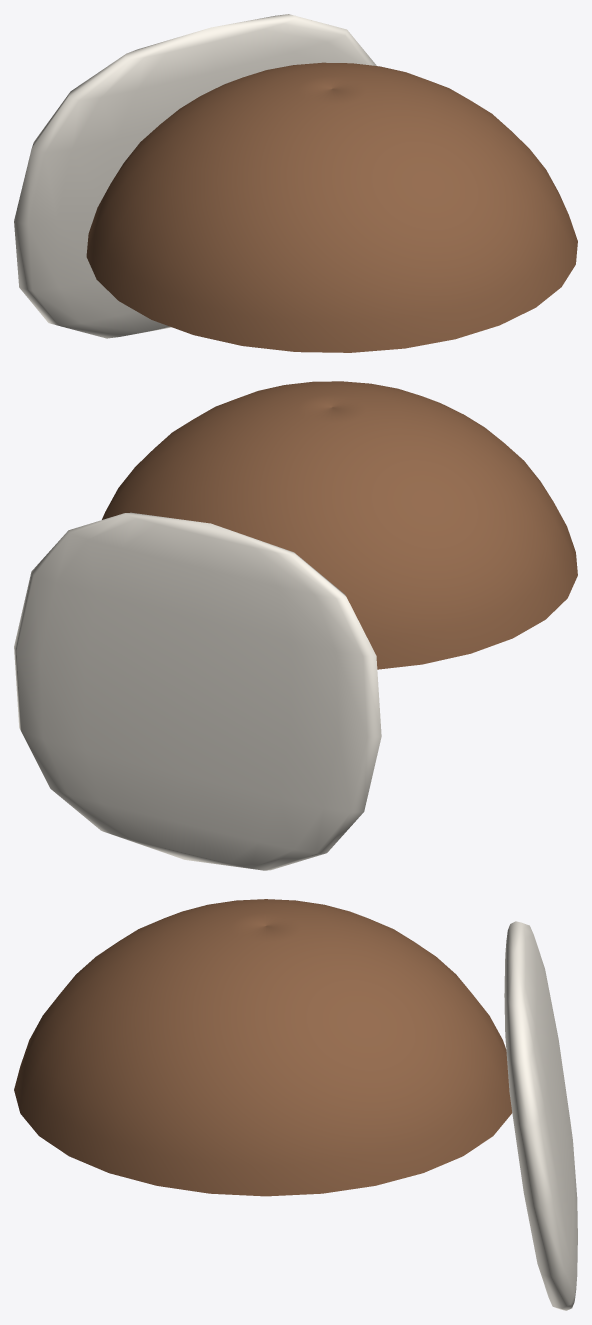
The model's file is bridal_veil.glb.
3 views of the same model, one above another, from view 1: azimuth 30°, elevation 25°; view 2: azimuth 150°, elevation 25°; view 3: azimuth 270°, elevation 25° (orthographic). The views are drawn at different scales.
Visible parts, largest first — view 1: bridal_veil_Head; view 2: bridal_veil_Head; view 3: bridal_veil_Head.
Boxes of the visible parts, x1,y1,x2,y2 form: bridal_veil_Head: (14,14,577,352); bridal_veil_Head: (14,381,577,870); bridal_veil_Head: (14,899,577,1310).
Size of the model in its own units: 0.6966 by 0.5372 by 0.7791.
